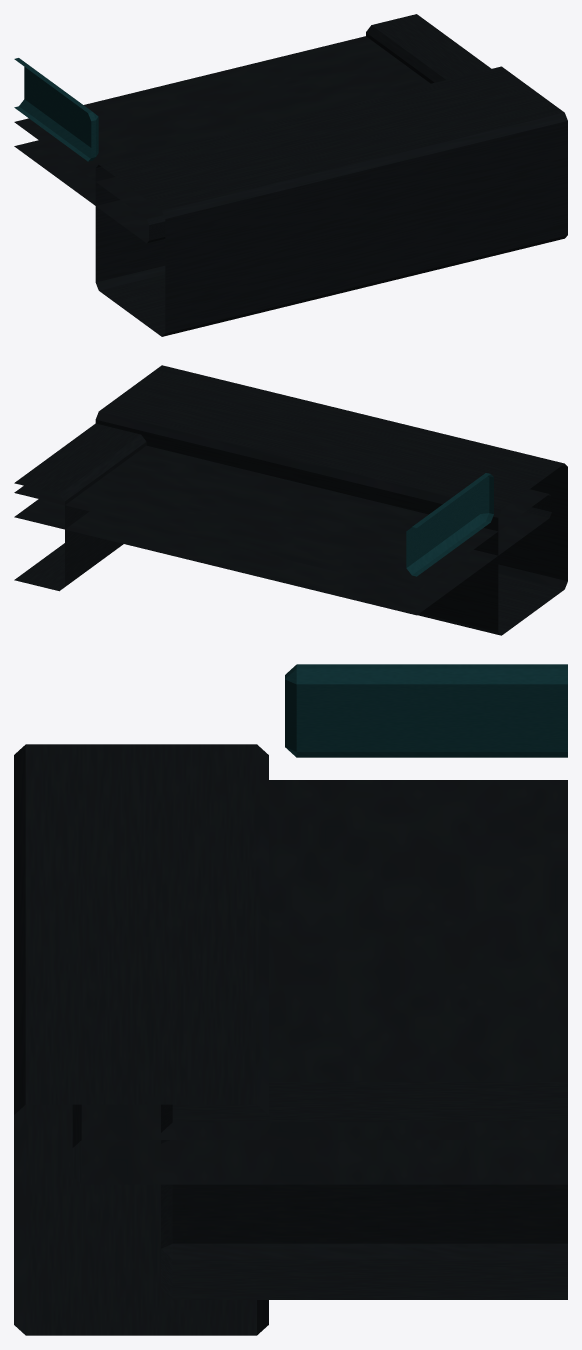
File: cell_14.obj
3 views of the same model, one above another, from view 1: azimuth 30°, elevation 25°; view 2: azimuth 150°, elevation 25°; view 3: azimuth 270°, elevation 25° (orthographic). The views are drawn at different scales.
Parts seen in each view (by area): view 1: cell_14; view 2: cell_14; view 3: cell_14.
Part boxes in pixels (x1,y1,x2,y2): cell_14: (14,14,567,336); cell_14: (14,365,567,635); cell_14: (14,664,567,1335).
Size of the model in its own units: 1 by 0.4025 by 0.65.
